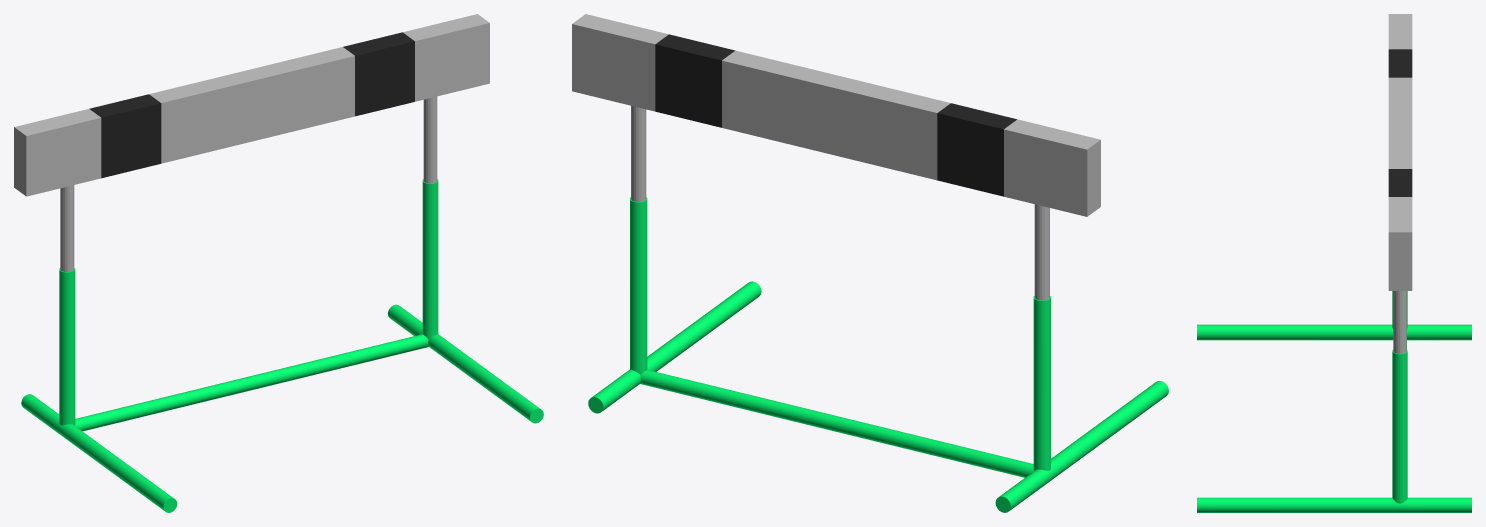
Rendered from Hurdle.gltf.
3 renders of one model, left to right at view 1: azimuth 30°, elevation 25°; view 2: azimuth 150°, elevation 25°; view 3: azimuth 270°, elevation 25°, orthographic. The views are drawn at different scales.
Parts seen in each view (by area): view 1: node-0; view 2: node-0; view 3: node-0.
Part boxes in pixels (x1=…): node-0: x1=14, y1=14, x2=543, y2=512; node-0: x1=572, y1=14, x2=1168, y2=512; node-0: x1=1197, y1=14, x2=1471, y2=512.
Bounding box in the file's own units: 698834 × 453823 × 371310.
